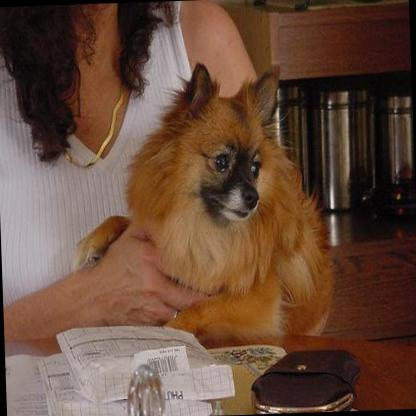Pomeranian: (68, 58, 332, 344)
